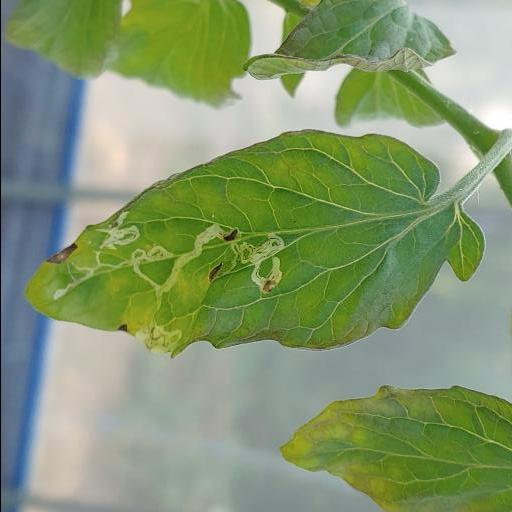disease_tomato: (21, 128, 487, 362)
